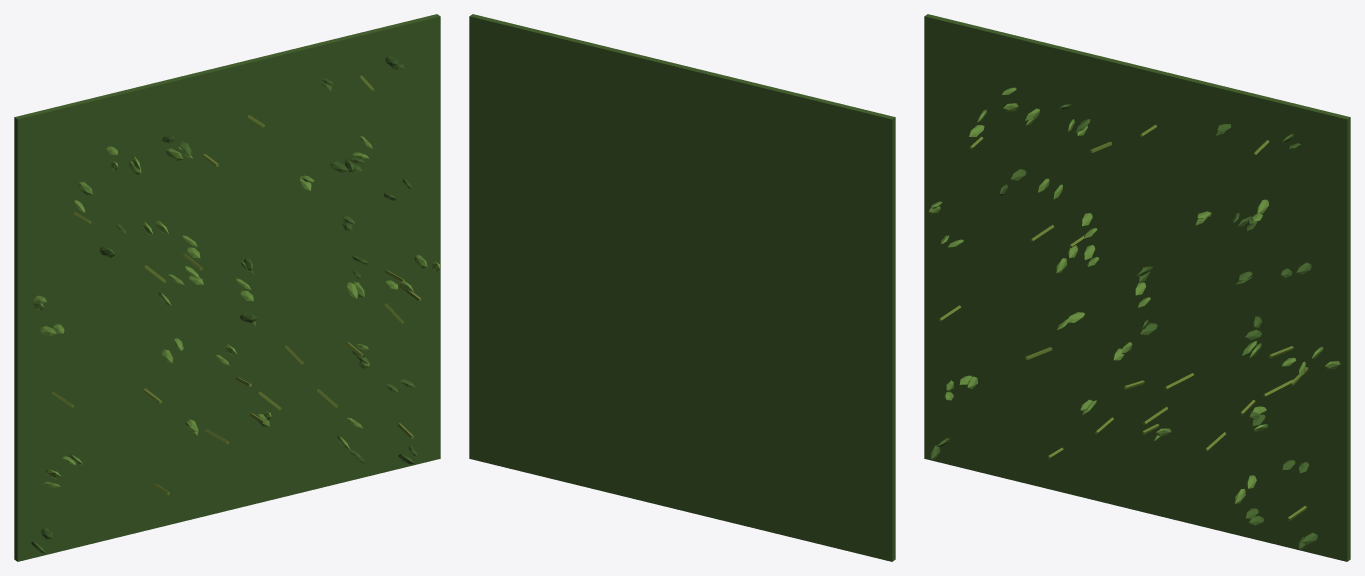
Rendered from patch_weeds.obj.
The picture shows the model from 3 angles, left to right: view 1: azimuth 30°, elevation 25°; view 2: azimuth 150°, elevation 25°; view 3: azimuth 330°, elevation 25°; orthographic projection.
Parts seen in each view (by area): view 1: patch_weeds; view 2: patch_weeds; view 3: patch_weeds.
Part boxes in pixels (box(x1,y1,x2,y2)): patch_weeds: box(14, 14, 440, 561); patch_weeds: box(469, 14, 895, 561); patch_weeds: box(924, 14, 1350, 561).
Bounding box in the file's own units: 1.5 × 1.5 × 0.1597.
